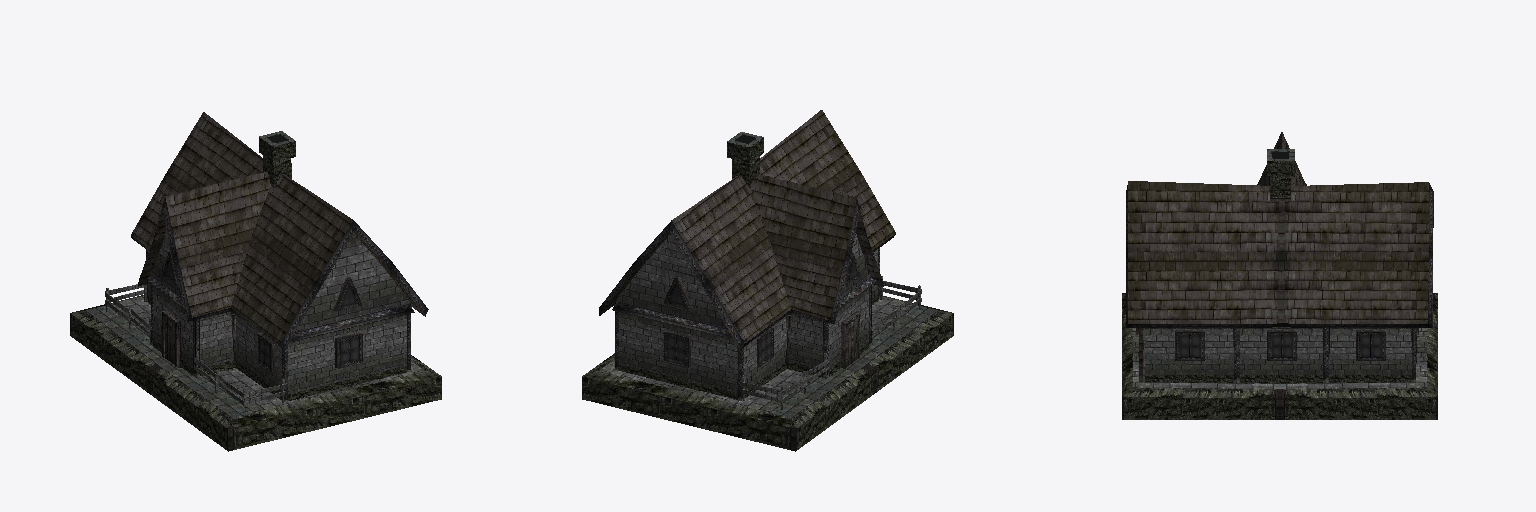
3 views of the same model, side by side, from view 1: azimuth 30°, elevation 25°; view 2: azimuth 150°, elevation 25°; view 3: azimuth 270°, elevation 25° (orthographic).
Parts seen in each view (by area): view 1: default; view 2: default; view 3: default.
Boxes of the visible parts, x1=… form: default: x1=70, y1=112, x2=441, y2=451; default: x1=582, y1=110, x2=953, y2=451; default: x1=1122, y1=132, x2=1437, y2=419.
Bounding box in the file's own units: 10.17 × 10.14 × 13.04.
Materials: 1 (1 with a texture image).